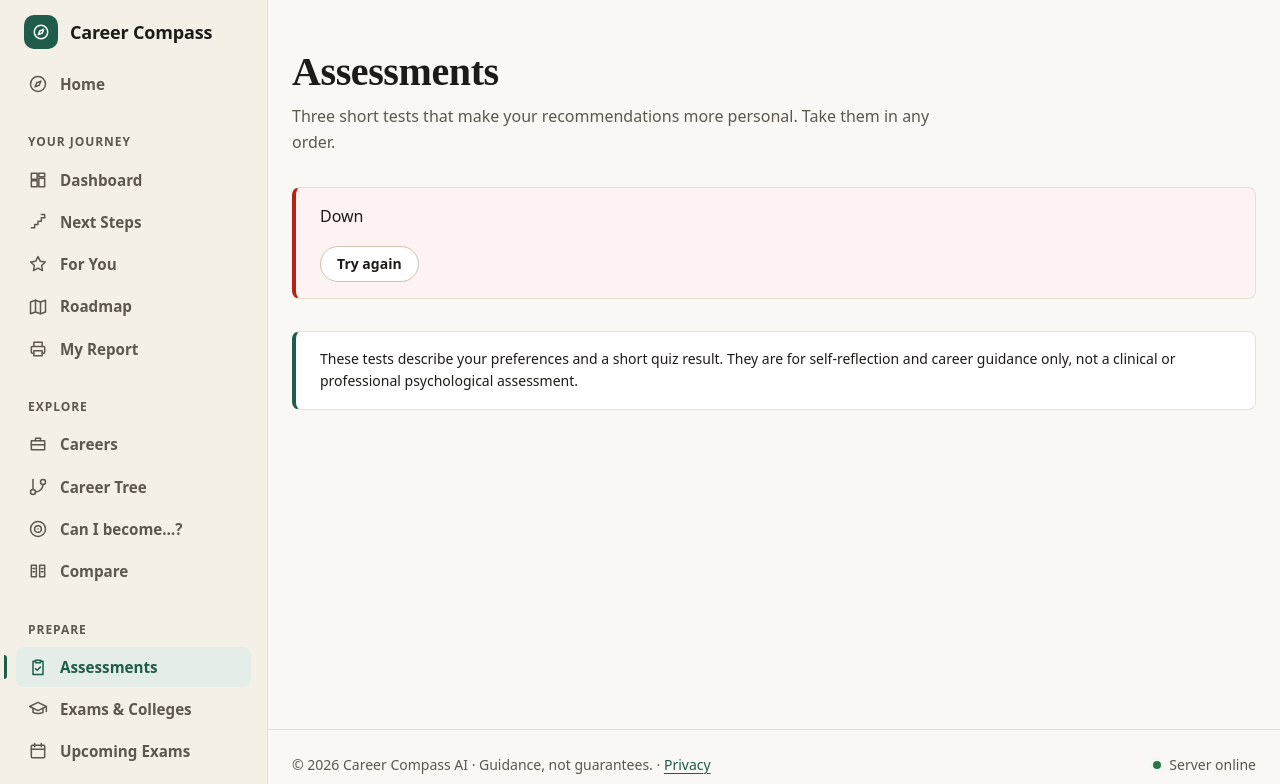
Assessments hub › shows an error with retry
expect the message "Down Try again" is shown: met, box top-left (292, 187), bottom-right (1256, 299)
Step 1. Click the button "Try again" → {"x": 369, "y": 264}, box top-left (320, 246), bottom-right (419, 282)
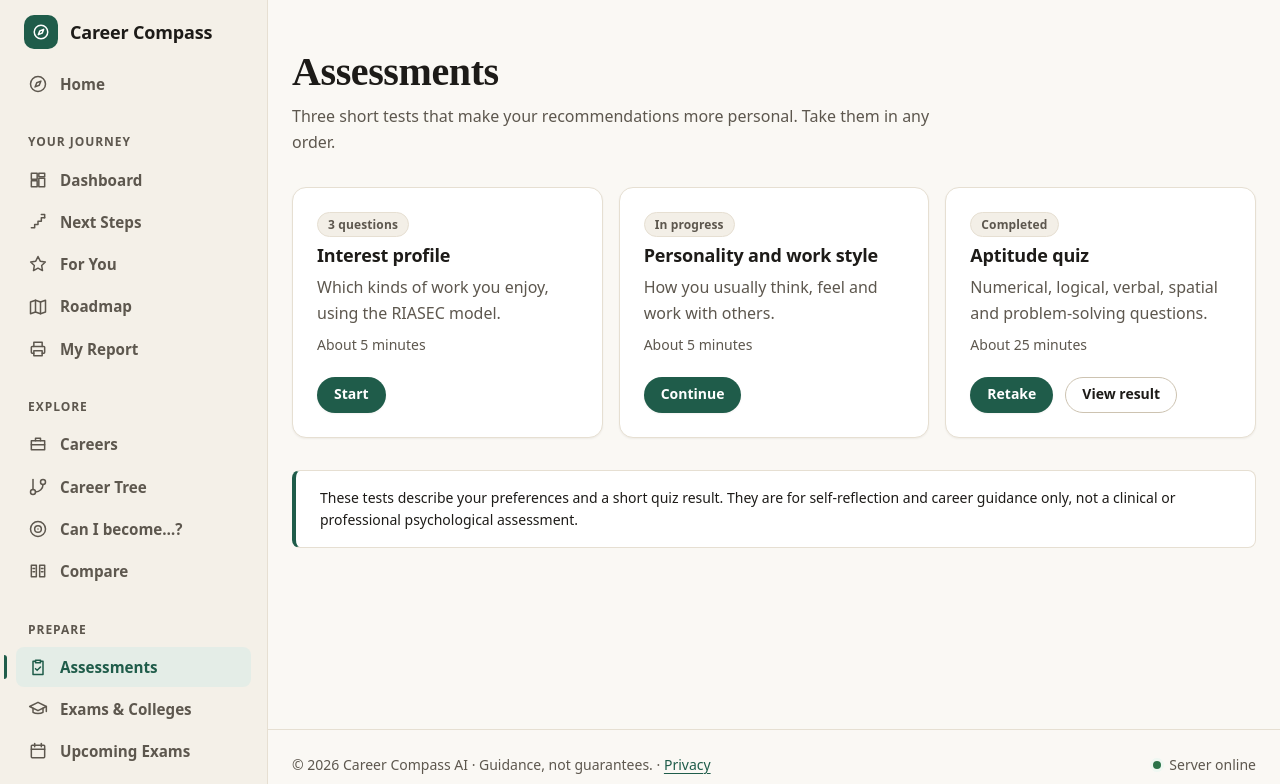
expect the heading "Aptitude quiz" is shown: met, box top-left (970, 243), bottom-right (1089, 267)
